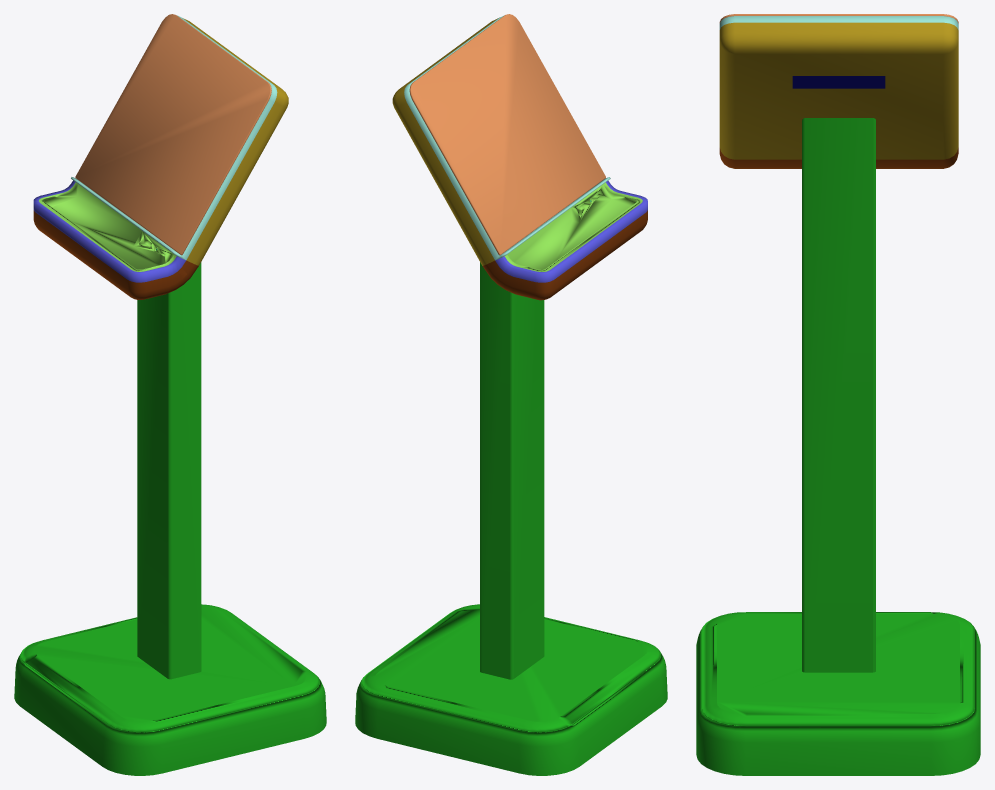
File: obj_Unit_Screen.obj
The picture shows the model from 3 angles, left to right: view 1: azimuth 30°, elevation 25°; view 2: azimuth 150°, elevation 25°; view 3: azimuth 270°, elevation 25°; orthographic projection. The views are drawn at different scales.
Parts seen in each view (by area): view 1: a010, ClimbArtis112, a009, ClimbArtis107, ClimbArtis109, ClimbArtis113, ClimbArtis105, ClimbArtis110; view 2: a010, ClimbArtis112, a009, ClimbArtis107, ClimbArtis109, ClimbArtis113, ClimbArtis105, ClimbArtis110; view 3: a010, a009, ClimbArtis109, ClimbArtis110, ClimbArtis113, ClimbArtis108, ClimbArtis112.
Boxes of the visible parts, x1,y1,x2,y2 form: a010: (14, 604, 326, 775); ClimbArtis112: (75, 14, 271, 255); a009: (137, 262, 201, 679); ClimbArtis107: (39, 182, 176, 271); ClimbArtis109: (183, 18, 288, 265); ClimbArtis113: (33, 210, 198, 299); ClimbArtis105: (33, 180, 185, 282); ClimbArtis110: (71, 15, 277, 260); a010: (355, 604, 667, 775); ClimbArtis112: (409, 14, 605, 255); a009: (480, 262, 544, 679); ClimbArtis107: (504, 182, 642, 271); ClimbArtis109: (392, 18, 498, 265); ClimbArtis113: (482, 210, 647, 300); ClimbArtis105: (495, 180, 647, 282); ClimbArtis110: (404, 15, 610, 260); a010: (696, 612, 980, 775); a009: (802, 118, 875, 672); ClimbArtis109: (719, 22, 958, 159); ClimbArtis110: (719, 16, 958, 29); ClimbArtis113: (719, 147, 958, 168); ClimbArtis108: (792, 76, 885, 88); ClimbArtis112: (719, 14, 958, 23).
Size of the model in its own units: 460 by 1304 by 460.
